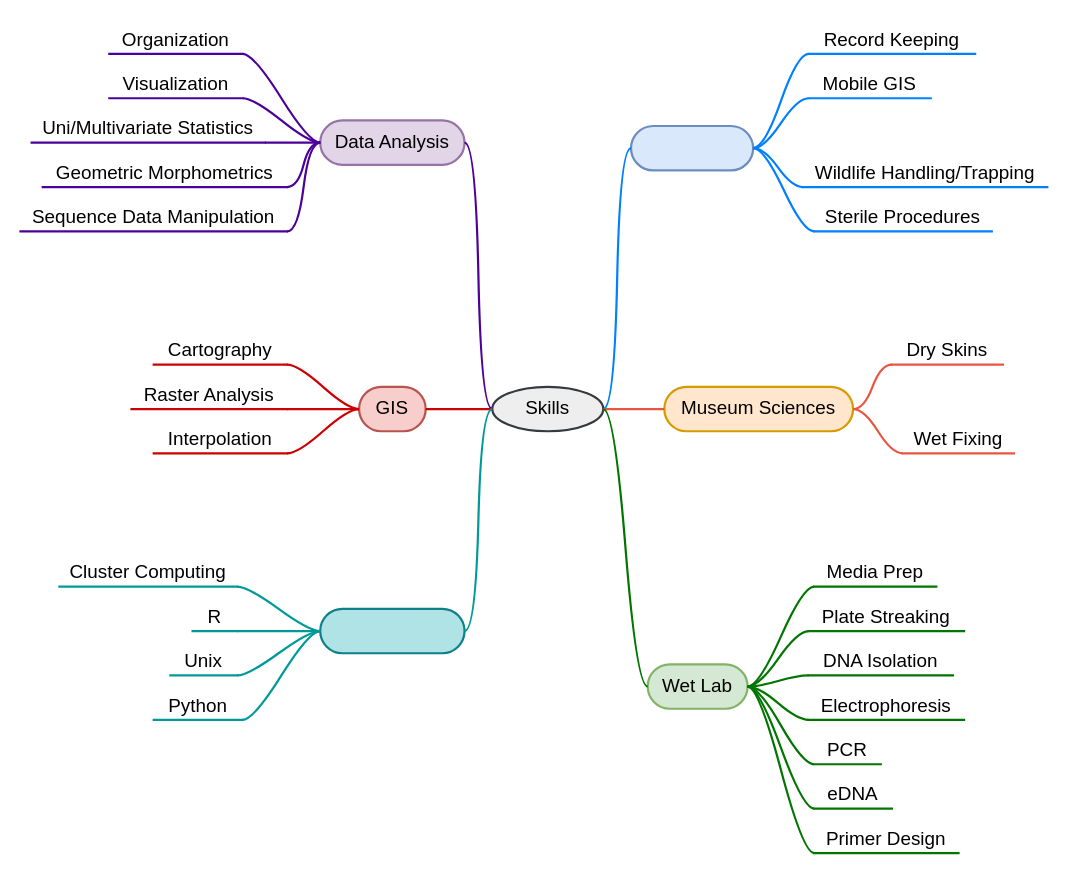
This 1067x872 diagram has some shape labels left out. The shapes that lost their labels are listed below. From the top down, each one's centre as x and y in pixels, then its label:
At point 691,147: "Field Work".
At point 392,630: "Programming".
